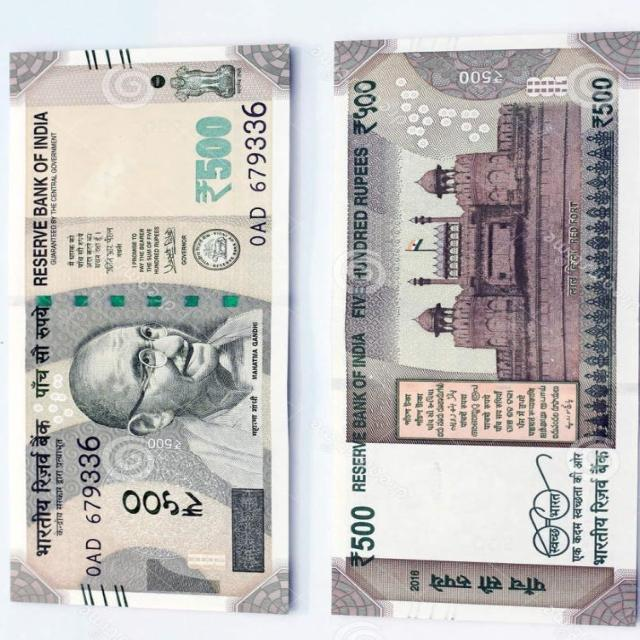500IndianRupees: (329, 31, 638, 618)
